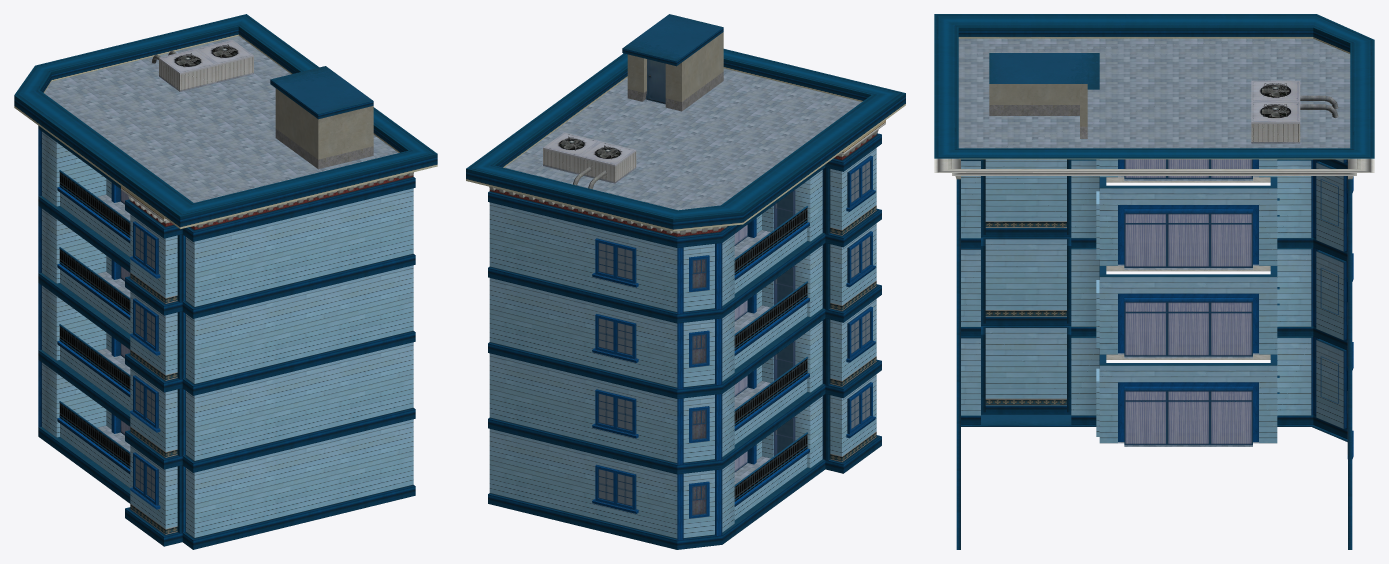
The model's file is MHouseG.fbx.
3 views of the same model, side by side, from view 1: azimuth 30°, elevation 25°; view 2: azimuth 150°, elevation 25°; view 3: azimuth 270°, elevation 25° (orthographic). The views are drawn at different scales.
Visible parts, largest first — view 1: ct2_03_n1_ks2_MhouseG_01; view 2: ct2_03_n1_ks2_MhouseG_01; view 3: ct2_03_n1_ks2_MhouseG_01.
Part boxes in pixels (bbox=[...]): ct2_03_n1_ks2_MhouseG_01: bbox=[14, 14, 437, 549]; ct2_03_n1_ks2_MhouseG_01: bbox=[466, 14, 905, 549]; ct2_03_n1_ks2_MhouseG_01: bbox=[934, 14, 1374, 549].
Bounding box in the file's own units: 1540 × 2235 × 1980.
